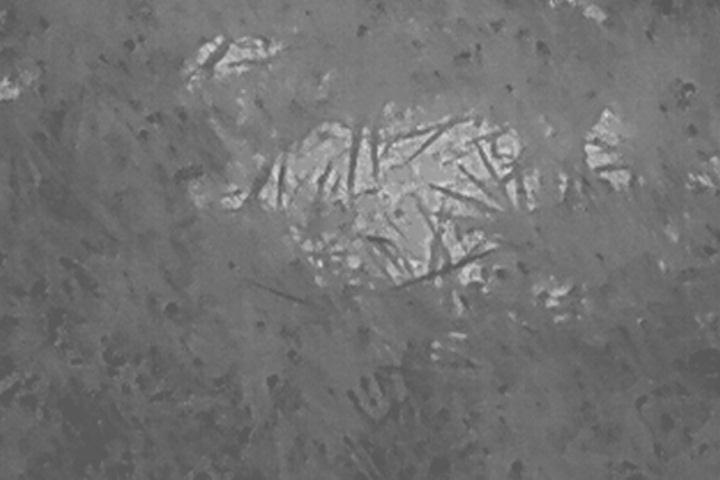landmine: (177, 31, 639, 340)
